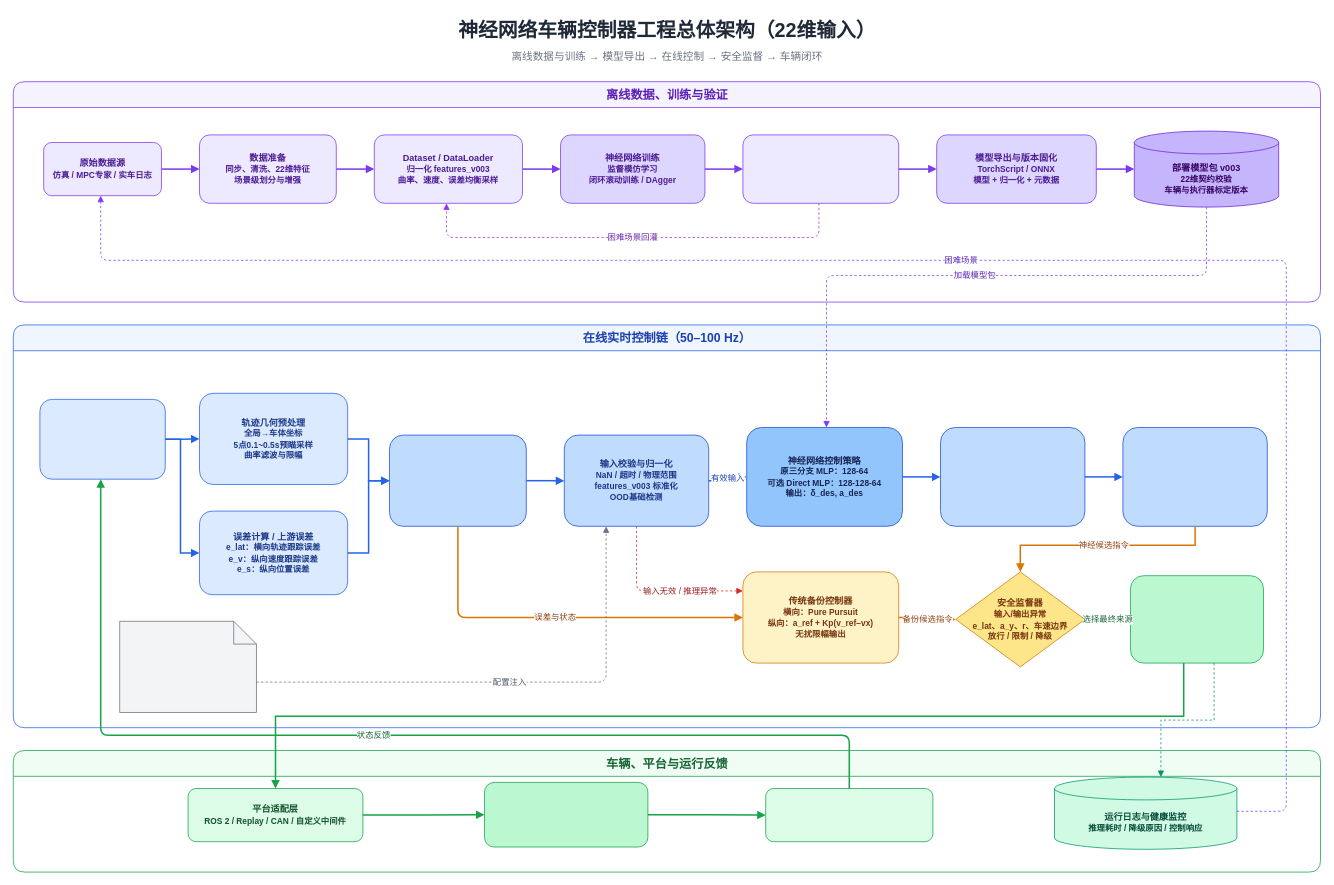
This 1334x885 diagram has some shape labels left out. The centre of each missing label's shape, as x and y in pixels:
22维特征构建 轨迹点 10 参考/曲率/误差 7 车辆状态 5: the point at 457,480
上游输入 参考轨迹 / kappa a_ref, v_ref, s_ref 定位与车辆状态: the point at 102,439
定位与状态估计 pose, vx, vy, ax, ay, r, s: the point at 849,815
执行器约束层 转角 / 扭矩 / 制动限幅 变化率与 jerk 限制 制动优先: the point at 1194,476
最终车辆指令 方向盘转角 驱动扭矩 制动减速度: the point at 1197,619
离线 + 闭环评估 MAE / RMSE / 跟踪误差 稳定性 / 平顺性 / 实时性: the point at 820,168
纵向控制分配 a_des > 0 → 驱动扭矩 a_des < 0 → 制动减速度 死区与互斥: the point at 1012,476
统一配置与版本 车辆参数 / 执行器限制 模型结构 / 安全阈值 采样距离 / 控制周期: the point at 187,666
车辆与执行器 转向 / 驱动 / 制动 车辆动力学响应: the point at 566,814
